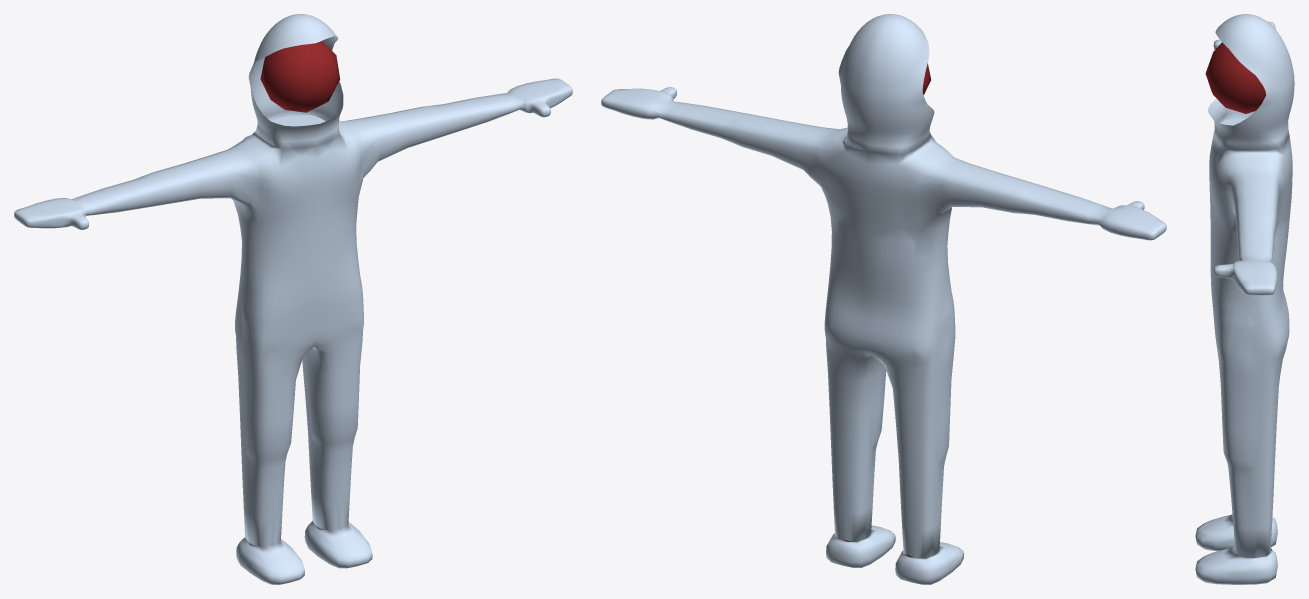
The model's file is char_04_17_10.fbx.
The picture shows the model from 3 angles, left to right: view 1: azimuth 30°, elevation 25°; view 2: azimuth 150°, elevation 25°; view 3: azimuth 270°, elevation 25°; orthographic projection.
Visible parts, largest first — view 1: body; view 2: body; view 3: body.
Boxes of the visible parts, bbox=[...] form: body: bbox=[14, 14, 572, 584]; body: bbox=[601, 14, 1166, 584]; body: bbox=[1195, 14, 1294, 584].
Size of the model in its own units: 178 by 169 by 27.88.
Materials: 1 (1 with a texture image).
